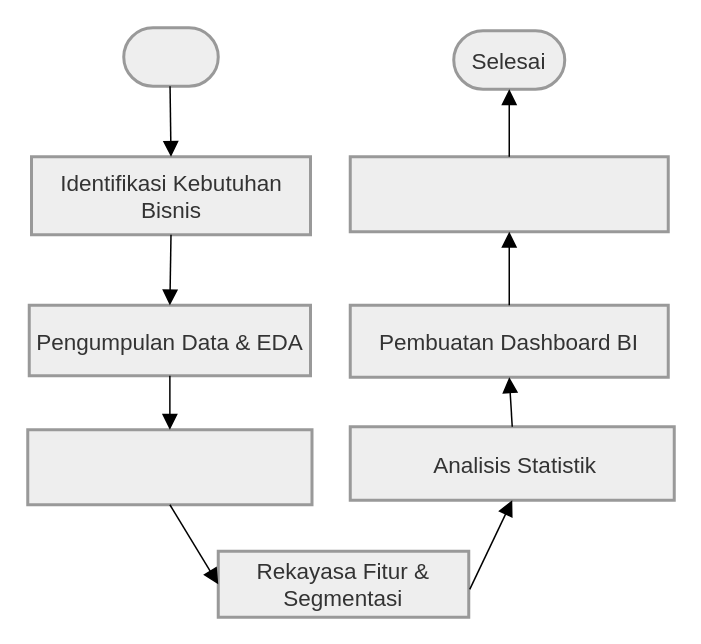
This 701x644 diagram has some shape labels left out. The shapes that lost their labels are listed below. From the top down, each one's centre as x and y in pixels, then its label:
At point 170,56: "Mulai".
At point 508,193: "Penyusunan Rekomendasi Kebijakan".
At point 169,467: "Pembersihan & Validasi Data".
